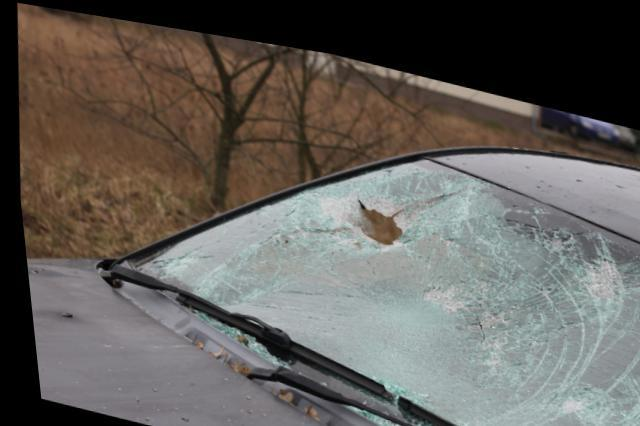glass shatter: (123, 144, 640, 426)
